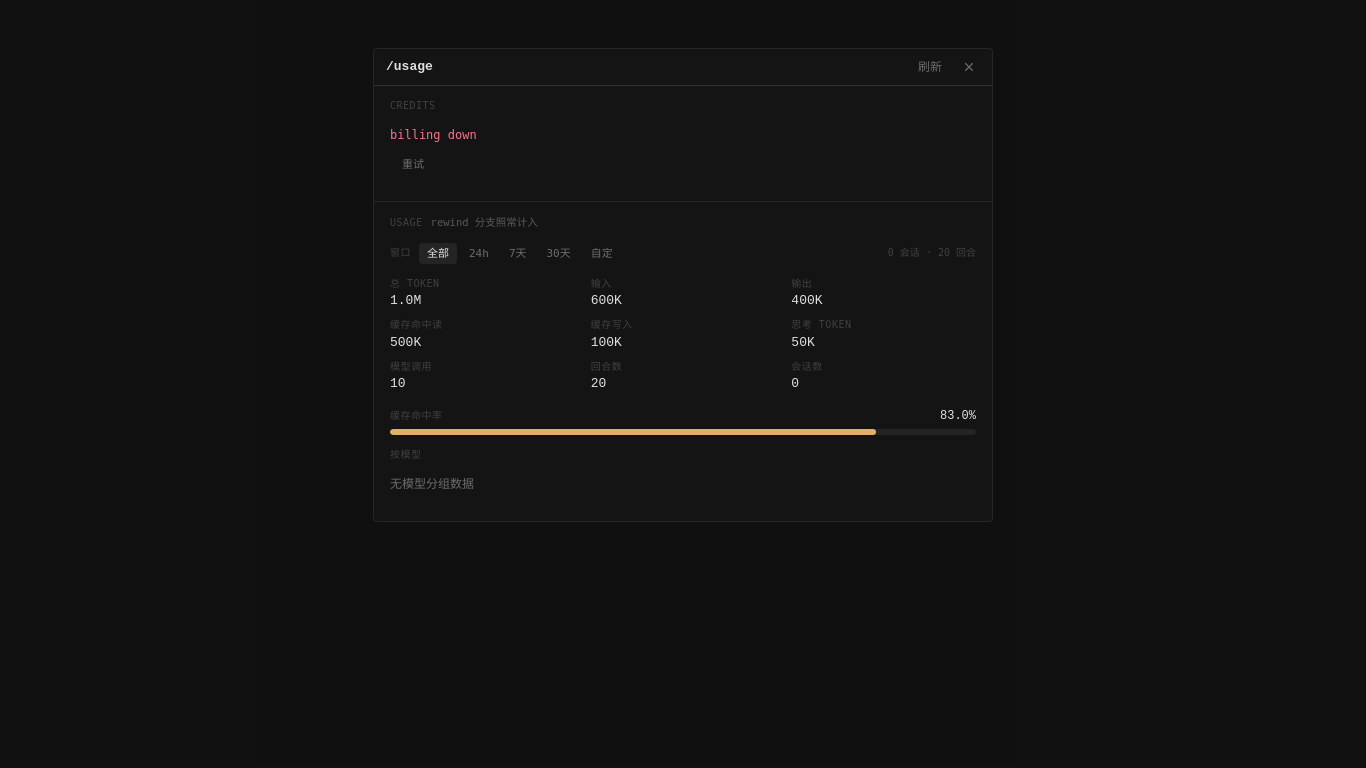
Test case: UsageModal › billing 请求失败 → 错误 + 重试
This screenshot has width=1366, height=768.
Expected: the text "billing down" is shown, 390,128 -> 477,142
Click the button "重试" at (413, 165), box 390,152 -> 436,177
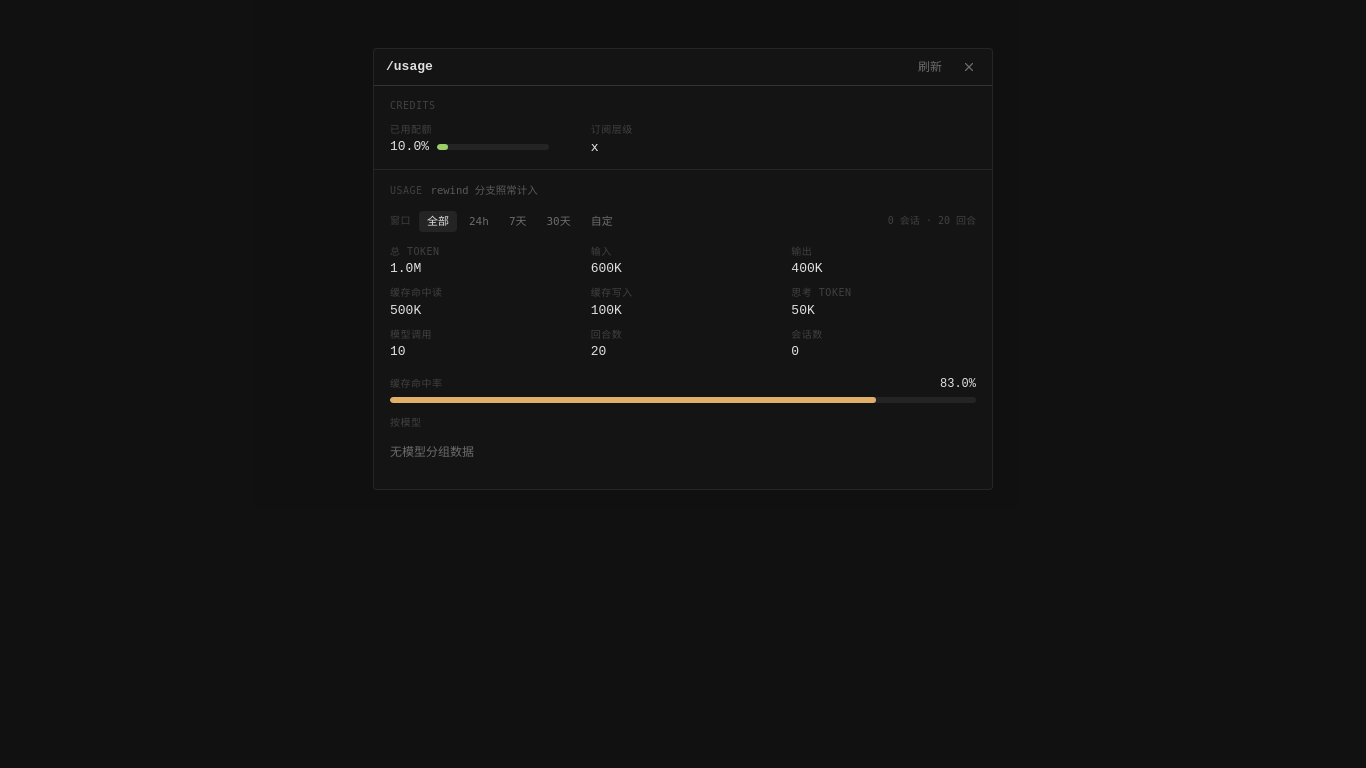
Expected: the text "已用配额" is shown, 390,124 -> 432,134
